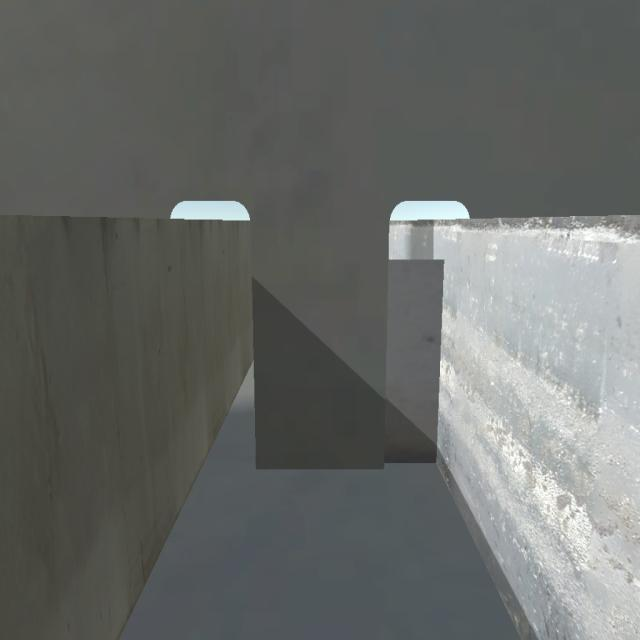fillet_yong_jeop_jang: (249, 458, 451, 468)
longi_yong_jeop_jang: (430, 253, 448, 463)
plate_behind: (389, 260, 439, 462)
